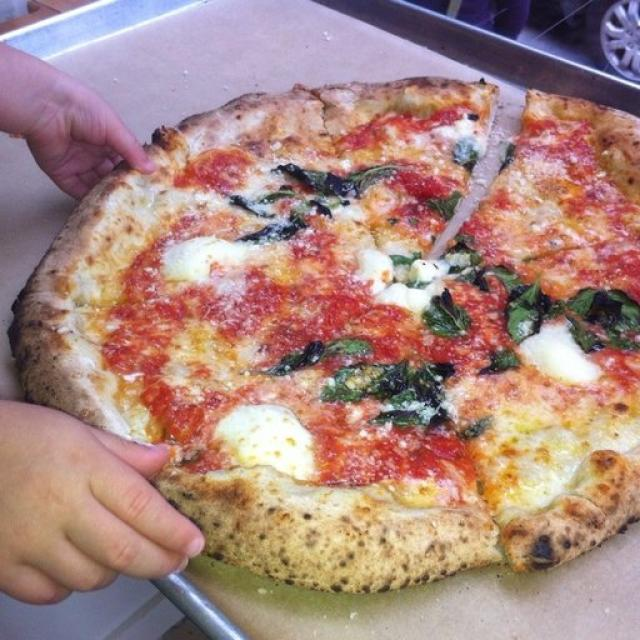Basil: (235, 160, 391, 244), (322, 338, 458, 424), (575, 288, 640, 348), (268, 342, 322, 379), (424, 298, 469, 340), (502, 274, 544, 316), (479, 349, 517, 375), (425, 190, 450, 220)
Cheese: (221, 406, 318, 483), (514, 326, 600, 389), (498, 432, 569, 487), (163, 241, 256, 275), (378, 285, 430, 317), (354, 248, 390, 290), (438, 113, 474, 138), (405, 262, 449, 280)
Pizza: (12, 79, 640, 592)
